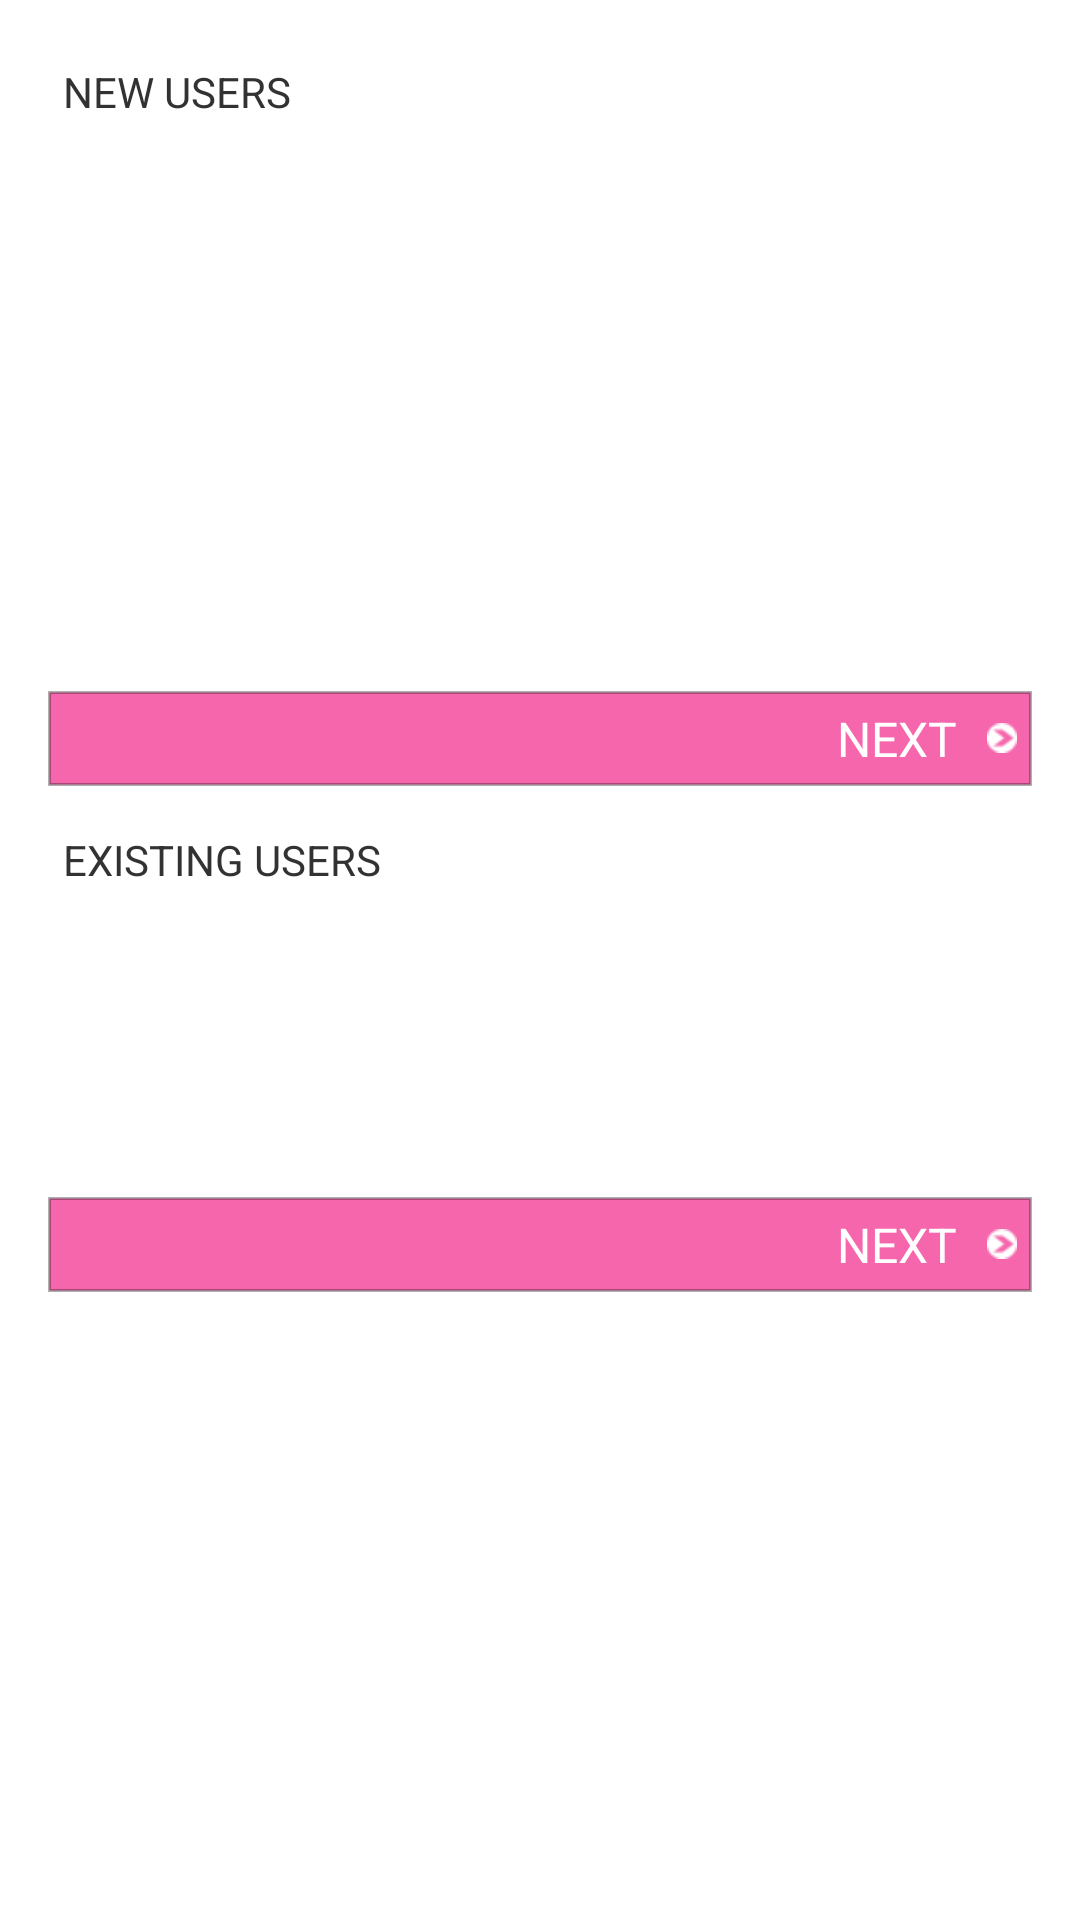

Locate icon controls on the screen. Image size 1080 × 1920, boxes as (x1, y1, x2, y2).
rarr: (987, 723, 1017, 753), (987, 1229, 1017, 1259)
